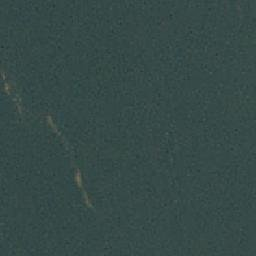debris: (75, 169, 91, 209), (2, 75, 11, 101), (46, 116, 57, 136)
